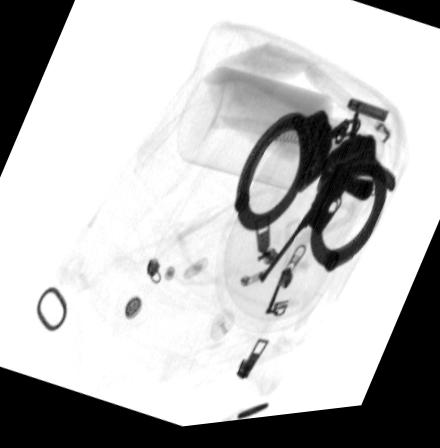Gun: (255, 174, 373, 296)
HandCuffs: (230, 116, 395, 284)
